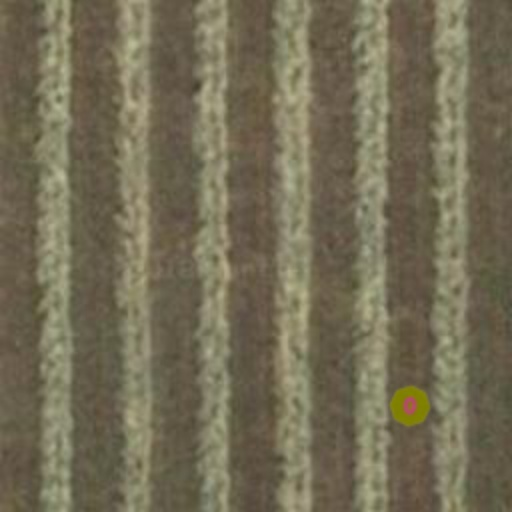octagon: (386, 382, 434, 430)
